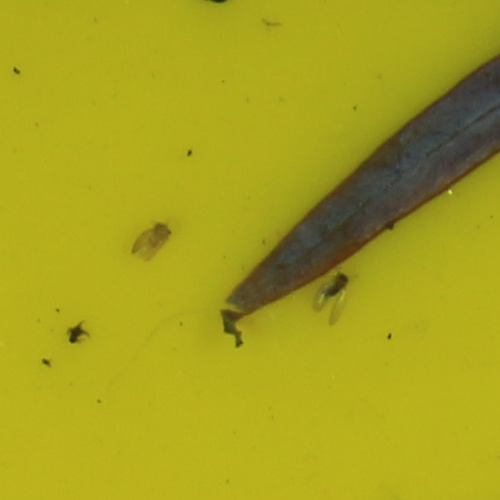Platyobria: (132, 221, 172, 261)
psylla: (321, 273, 348, 297)
